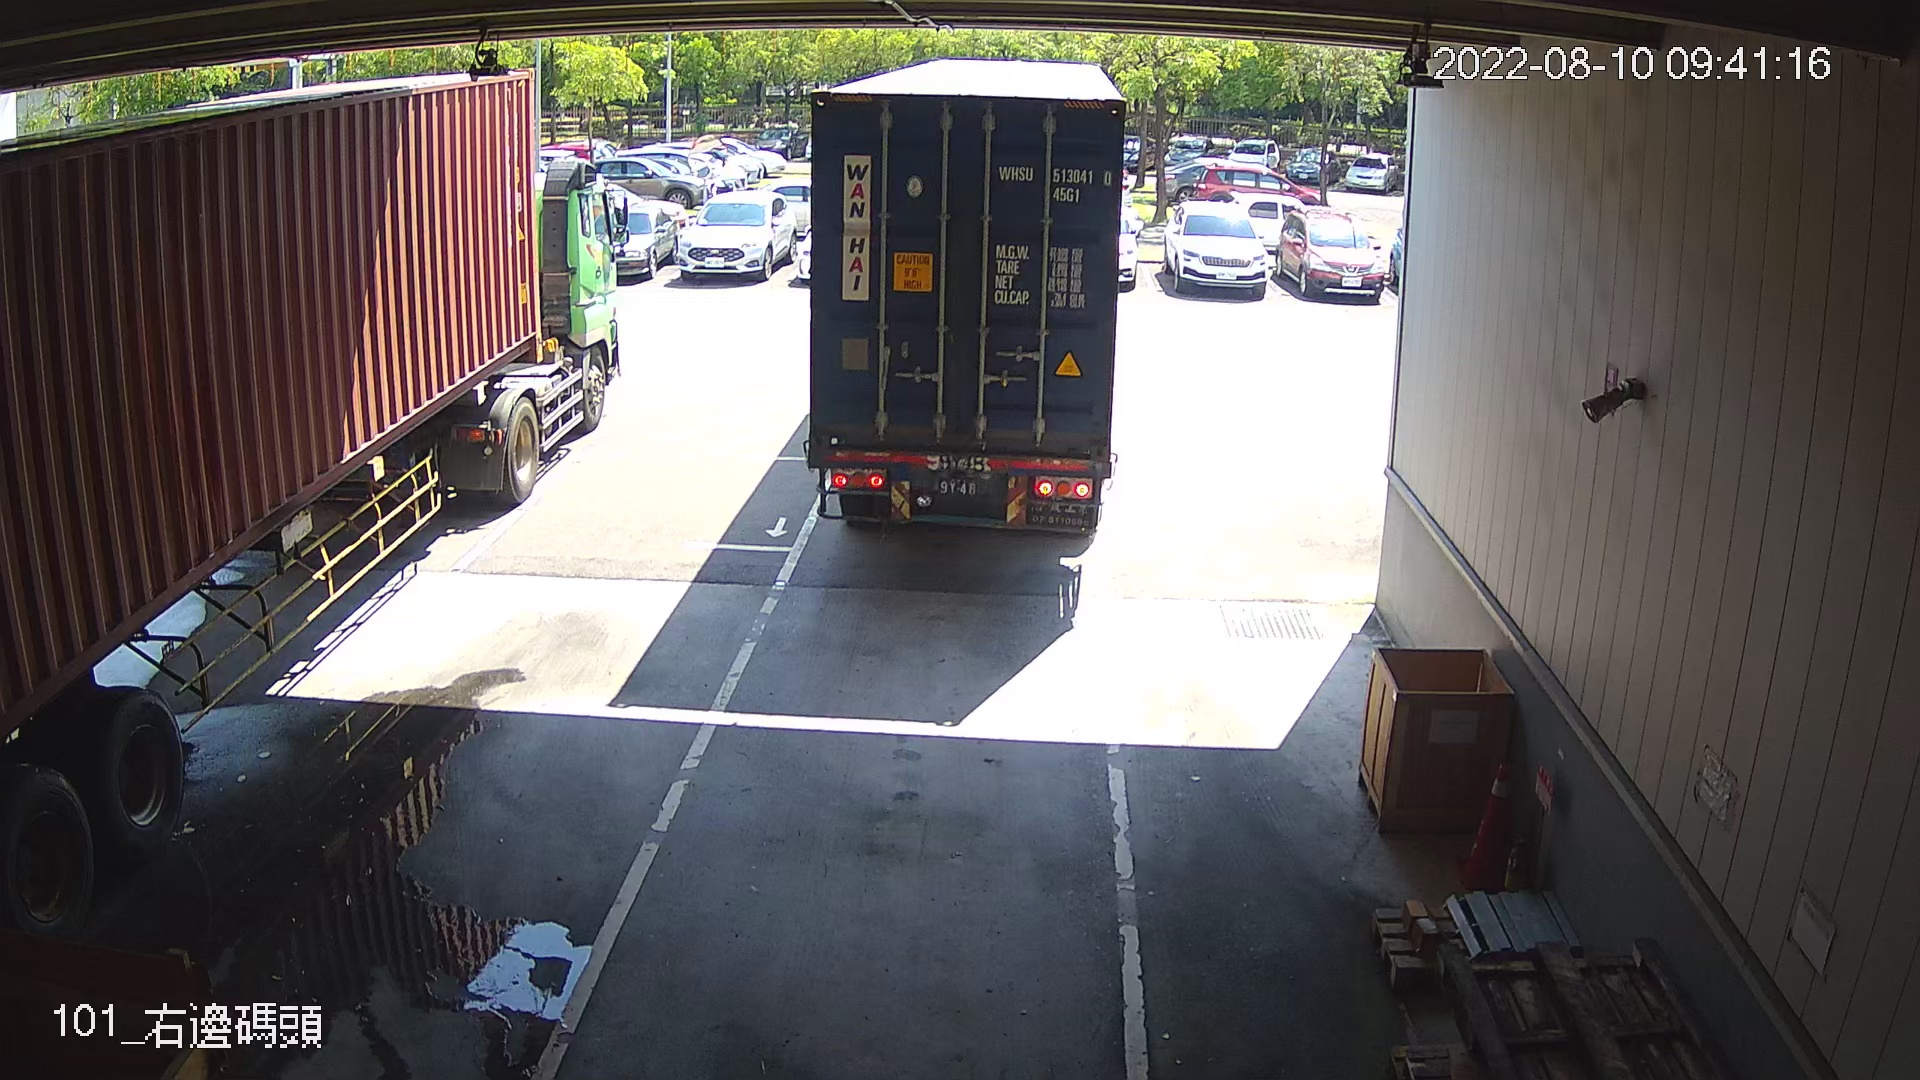container: (992, 156, 1116, 210)
